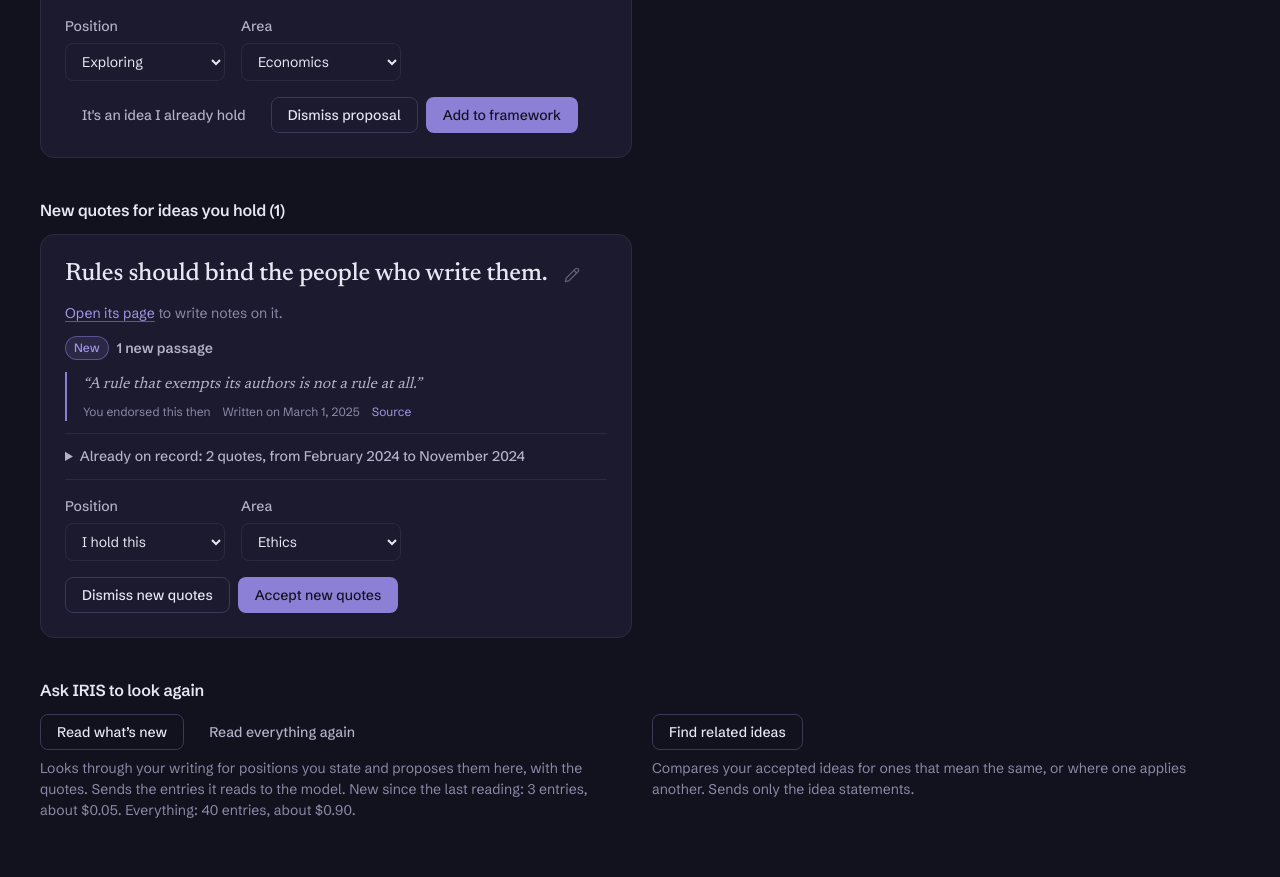
Test: Ideas screen › shows what finding related ideas would send and cost before anything is sent
(page scrolled)
What coordinates should you click on to do the following:
click the button "Find related ideas"
I would click on:
 (727, 732)
Its box is top-left (652, 714), bottom-right (803, 750).
(page scrolled)
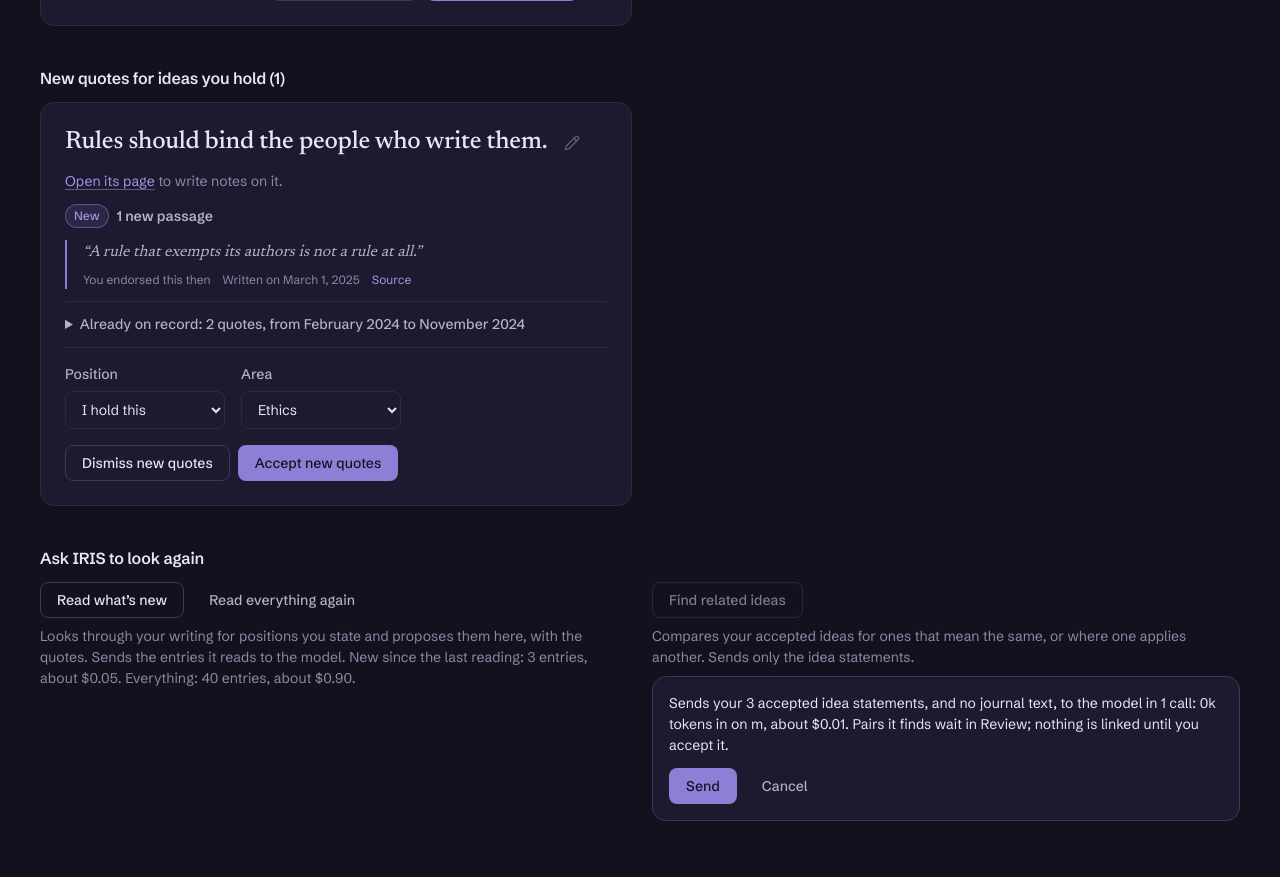
Expected: the dialog named "Find related ideas" shows "Sends your 3 accepted idea statements, and no journal text", top-left (652, 676), bottom-right (1240, 821)
Expected: the dialog named "Find related ideas" shows "about $0.01", top-left (669, 694), bottom-right (1216, 733)
What coordinates should you click on to do the following:
click the button "Cancel"
I would click on:
 (785, 786)
Its box is top-left (745, 768), bottom-right (825, 804).
(page scrolled)
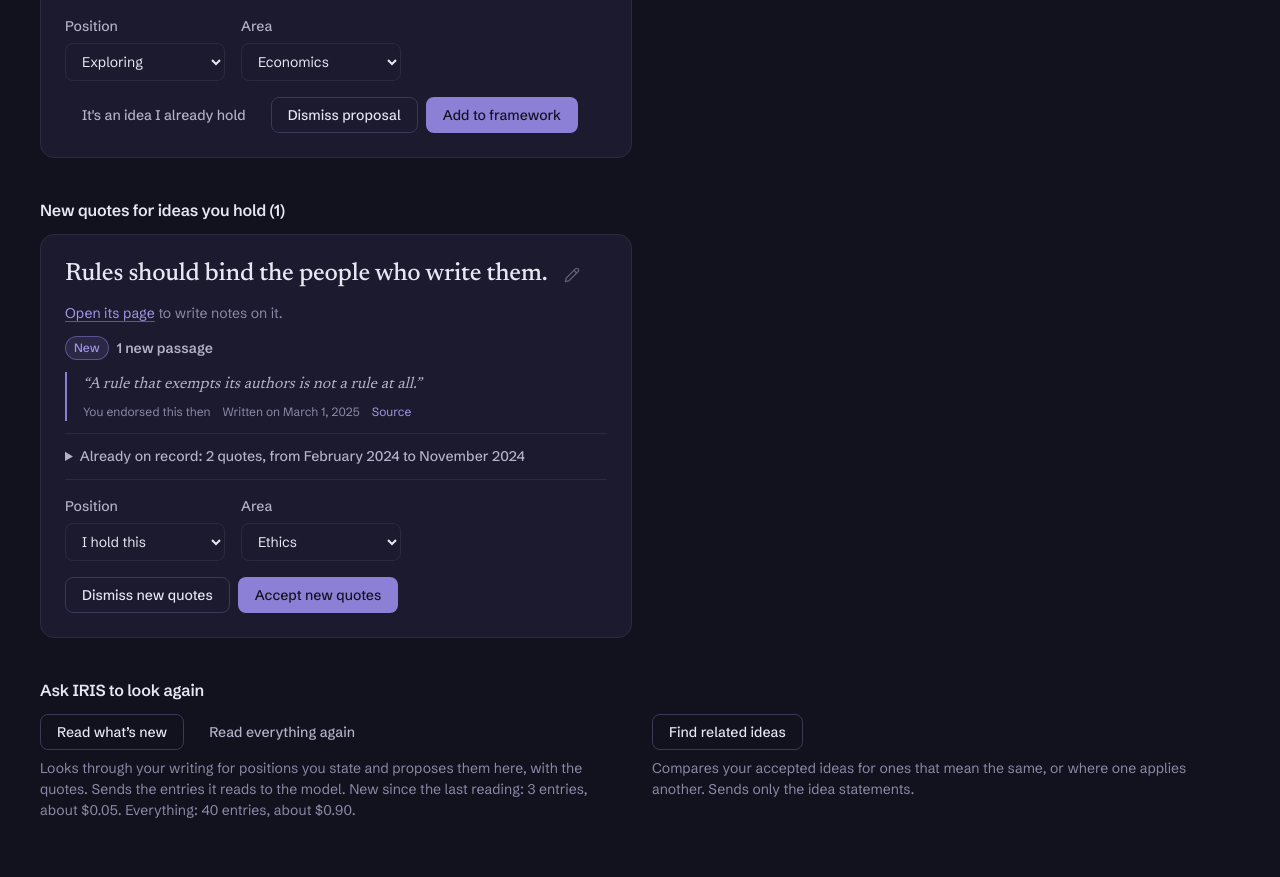
Expected: the dialog is gone
